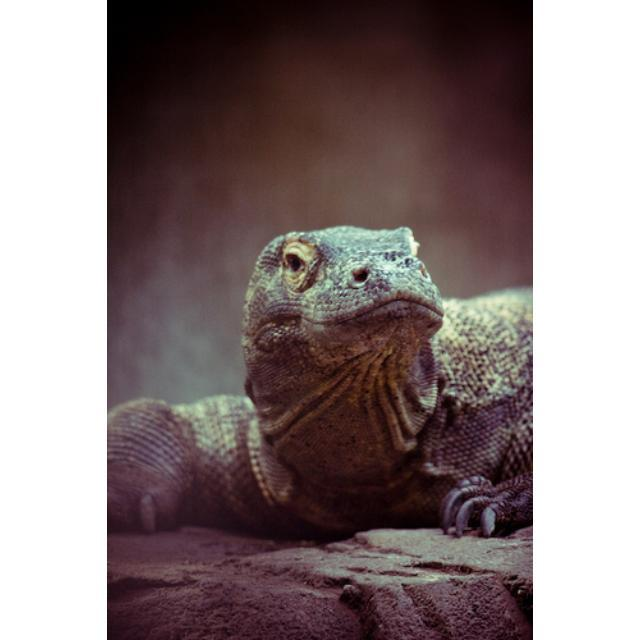KomodoDragon: (107, 225, 529, 534)
